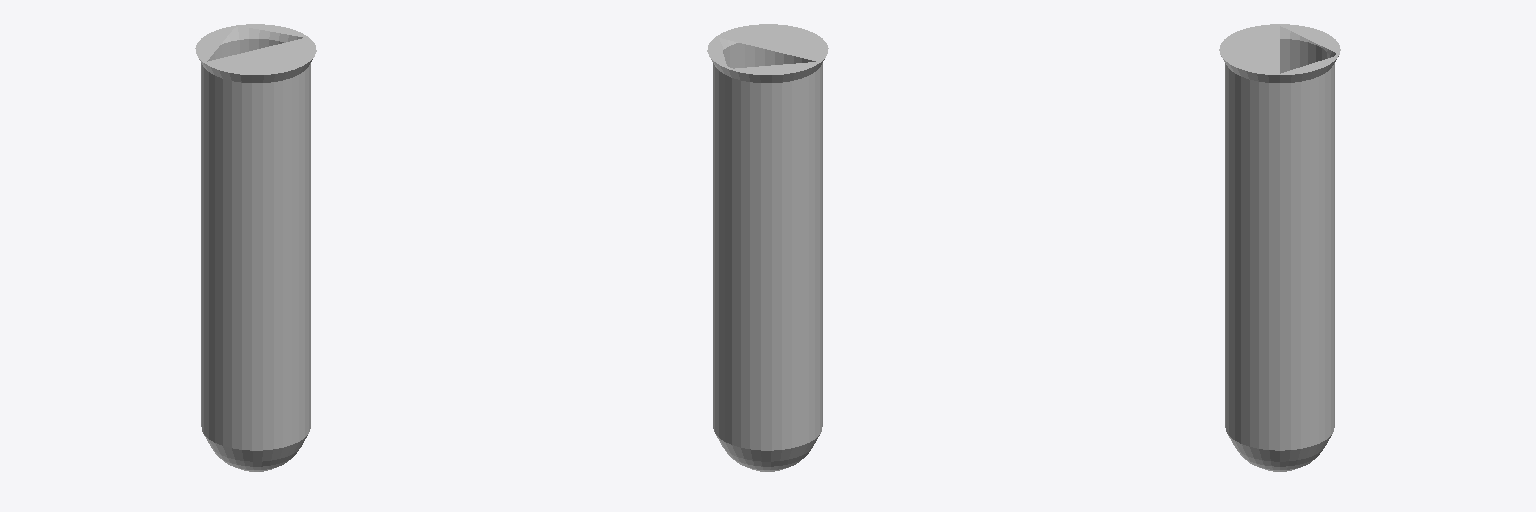
File: LegeBuis.obj
The picture shows the model from 3 angles: view 1: azimuth 30°, elevation 25°; view 2: azimuth 150°, elevation 25°; view 3: azimuth 270°, elevation 25°; orthographic projection.
Visible parts, largest first — view 1: Cylinder.004_Cylinder.005; view 2: Cylinder.004_Cylinder.005; view 3: Cylinder.004_Cylinder.005.
Boxes of the visible parts, x1=… form: Cylinder.004_Cylinder.005: x1=195, y1=24, x2=316, y2=471; Cylinder.004_Cylinder.005: x1=707, y1=24, x2=828, y2=471; Cylinder.004_Cylinder.005: x1=1219, y1=24, x2=1340, y2=471.
Bounding box in the file's own units: 2.22 × 8.32 × 2.22.